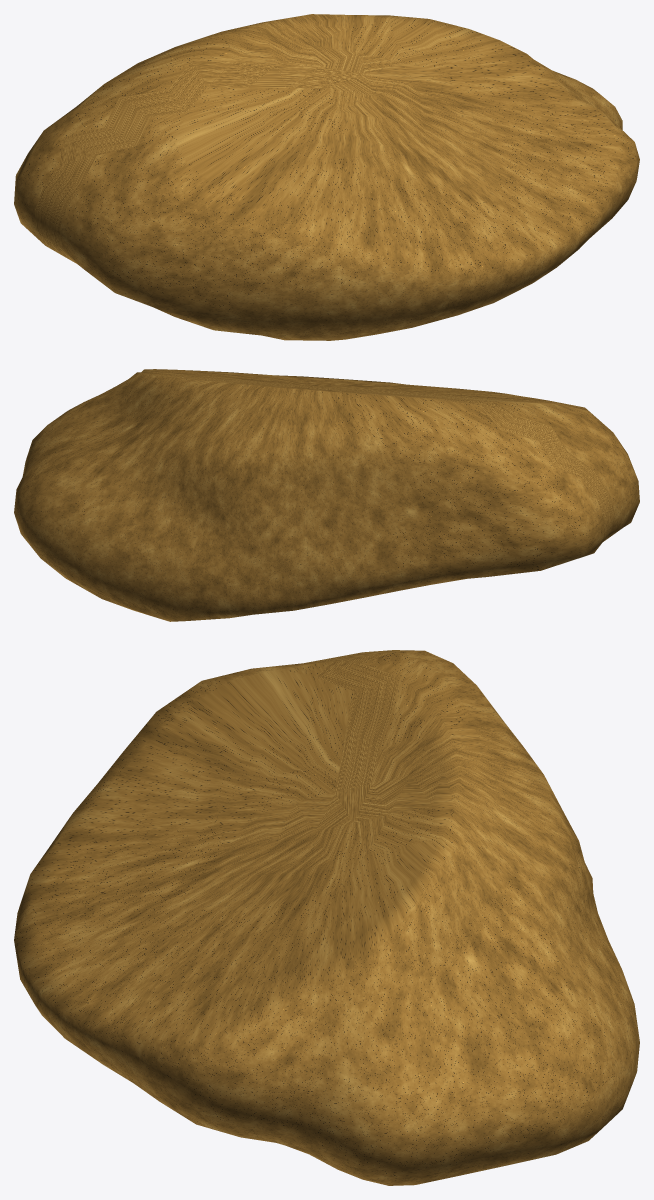
The model's file is obstacle_mid_9.dae.
The picture shows the model from 3 angles, top to bottom: view 1: azimuth 30°, elevation 25°; view 2: azimuth 150°, elevation 25°; view 3: azimuth 270°, elevation 25°; orthographic projection. The views are drawn at different scales.
Parts seen in each view (by area): view 1: obstacle_mid_9; view 2: obstacle_mid_9; view 3: obstacle_mid_9.
Part boxes in pixels (box(x1,y1,x2,y2)): obstacle_mid_9: box(14, 14, 639, 340); obstacle_mid_9: box(14, 369, 639, 621); obstacle_mid_9: box(14, 650, 639, 1185).
Bounding box in the file's own units: 1 × 0.7119 × 0.3761.
Materials: 1 (1 with a texture image).
